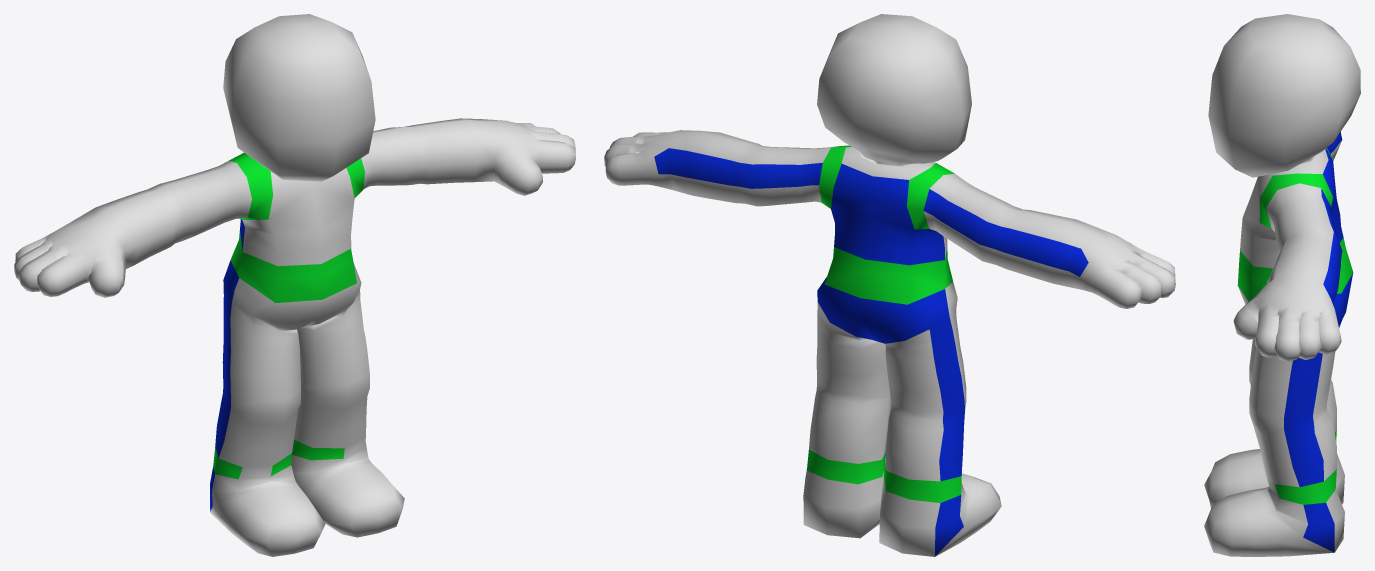
The model's file is Pilot.fbx.
The picture shows the model from 3 angles, left to right: view 1: azimuth 30°, elevation 25°; view 2: azimuth 150°, elevation 25°; view 3: azimuth 270°, elevation 25°; orthographic projection.
Visible parts, largest first — view 1: body; view 2: body; view 3: body.
Boxes of the visible parts, box(x1,y1,x2,y2) form: body: box(14, 14, 575, 556); body: box(604, 14, 1175, 556); body: box(1204, 14, 1360, 556).
Bounding box in the file's own units: 2.03 × 1.72 × 0.4905.
